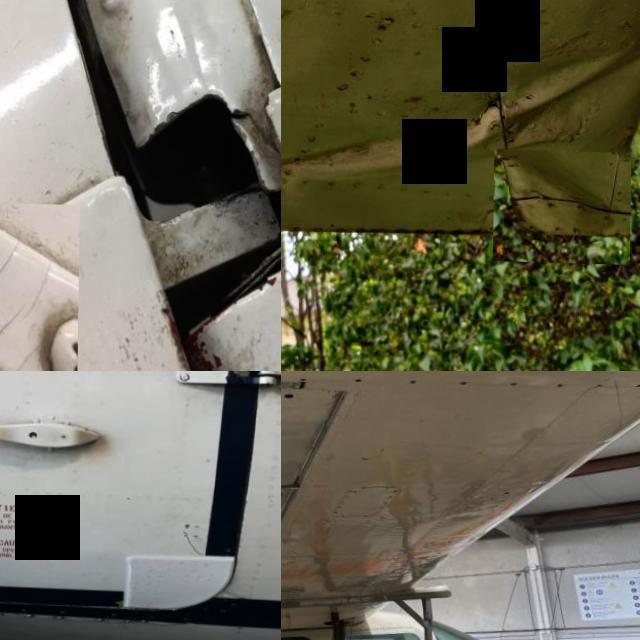Crack: (0, 200, 81, 371), (462, 92, 507, 136), (177, 522, 209, 554)
Dent: (281, 8, 640, 249), (494, 147, 632, 262)
Missing_Fastener: (354, 376, 364, 381), (410, 378, 418, 383), (556, 380, 564, 385), (300, 376, 308, 381), (634, 379, 640, 384)
